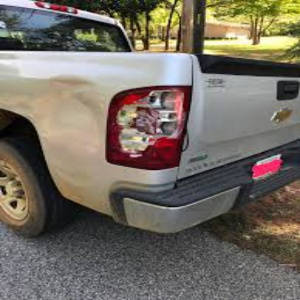tail_lights: (105, 86, 187, 168)
